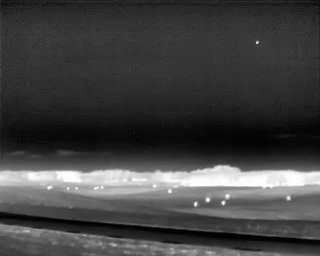BIRD: (253, 38, 261, 47)
